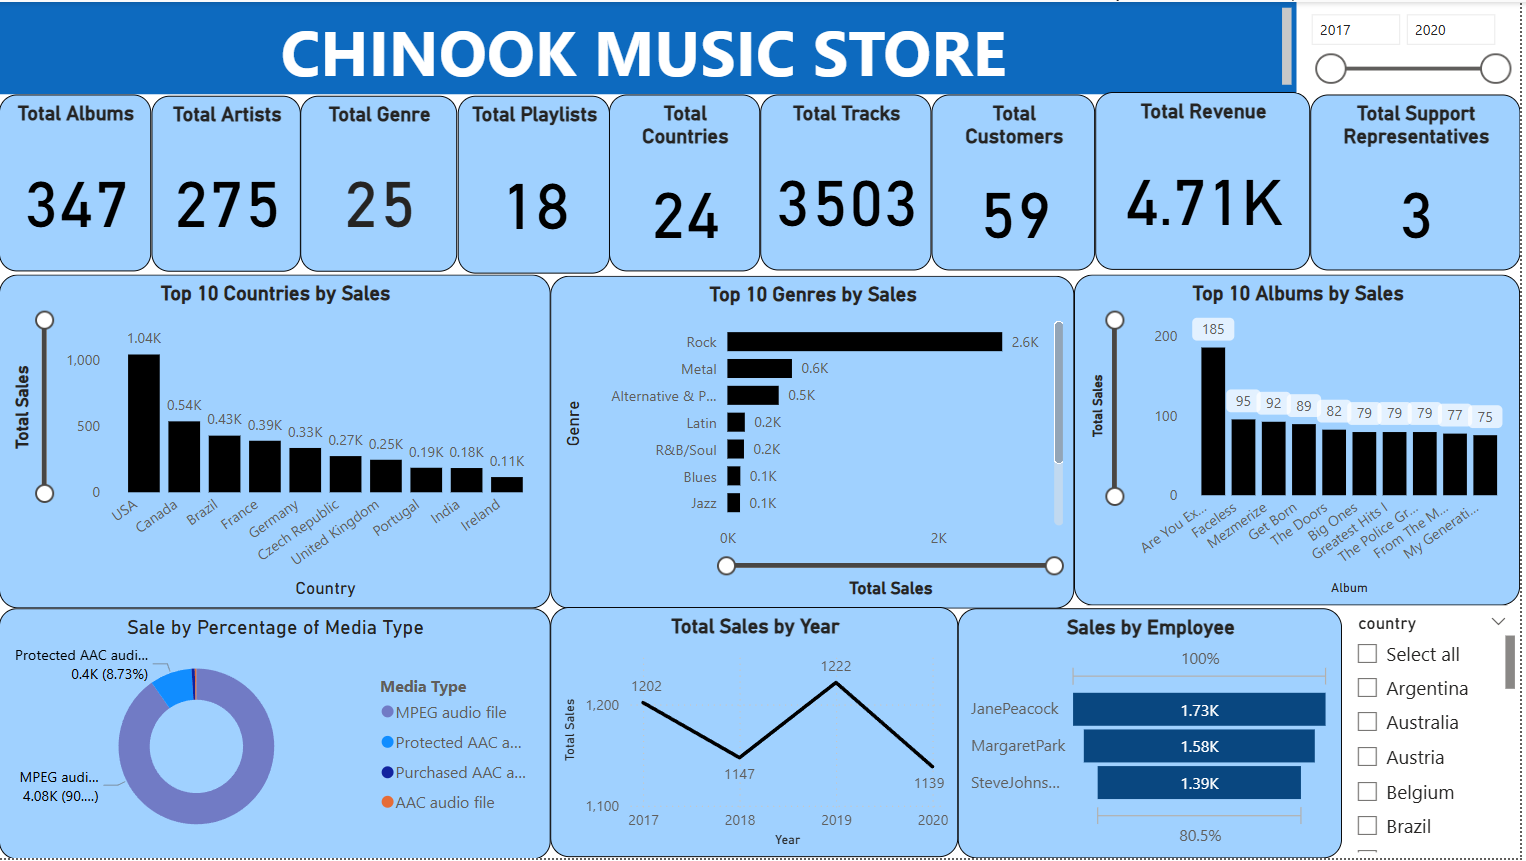

Layout of this report page (visuals, bound fields, positions):
{"tool":"powerbi","page":{"name":"Dashboard","canvas":[1280,720],"ordinal":0},"visuals":[{"type":"textbox","box":[0,0,1091.8,77.7],"z":0},{"type":"card","title":"Total Albums","fields":{"Values":["chinook track.Total Album"]},"box":[0,77.9,127.9,148.9],"z":1000},{"type":"card","title":"Total Genre","fields":{"Values":["chinook genre.Total Genres"]},"box":[253.8,78.9,131.9,147.9],"z":2000},{"type":"card","title":"Total Tracks","fields":{"Values":["chinook track.Total Tracks"]},"box":[640.5,77.9,143.9,147.9],"z":3000},{"type":"card","title":"Total Customers","fields":{"Values":["chinook customer.Number of Customers"]},"box":[784.4,77.9,137.9,147.9],"z":4000},{"type":"card","title":"Total Countries","fields":{"Values":["chinook customer.Total Countries"]},"box":[513.6,77.9,126.9,148.9],"z":5000},{"type":"card","title":"Total Artists","fields":{"Values":["chinook artist.Total Artists"]},"box":[127.9,78.9,125.9,147.9],"z":6000},{"type":"card","title":"Total Support Representatives","fields":{"Values":["chinook employee.Total Support Person"]},"box":[1103.1,77.9,176.9,147.9],"z":7000},{"type":"card","title":"Total Playlists","fields":{"Values":["chinook playlist.Total Playlists"]},"box":[385.7,78.9,127.9,149.9],"z":8000},{"type":"card","title":"Total Revenue","fields":{"Values":["chinook invoice.Total Sales"]},"box":[922.3,75.9,180.9,149.9],"z":9000},{"type":"clusteredColumnChart","title":"Top 10 Countries by Sales","fields":{"Category":["chinook customer.country"],"Y":["chinook invoice.Total Sales"]},"box":[0,228.8,463.6,280.8],"z":10000},{"type":"barChart","title":"Top 10 Genres by Sales","fields":{"Category":["chinook track.Genre Name"],"Y":["chinook invoice_line.Total Revenue"]},"box":[463.6,229.8,440.7,279.8],"z":11000},{"type":"donutChart","title":"Sale by Percentage of Media Type","fields":{"Y":["chinook media_type.Sales by Media Type"],"Category":["chinook media_type.name"]},"box":[0,509.6,463.6,210.8],"z":12000},{"type":"lineChart","fields":{"Y":["chinook invoice.Total Sales"],"Category":["chinook invoice.invoice_date.Variation.Date Hierarchy.Year","chinook invoice.invoice_date.Variation.Date Hierarchy.Quarter","chinook invoice.invoice_date.Variation.Date Hierarchy.Month"]},"box":[463.6,509.3,343.3,210.7],"z":13000},{"type":"lineStackedColumnComboChart","title":"Top 10 Albums by Sales","fields":{"Y":["chinook track.Album Sales"],"Category":["chinook track.Album Name"]},"box":[904.6,229.7,375.4,278.3],"z":14000},{"type":"slicer","fields":{"Values":["chinook customer.country"]},"box":[1129.8,508.8,150.2,211.1],"z":15000},{"type":"slicer","fields":{"Values":["chinook invoice.invoice_date.Variation.Date Hierarchy.Year"]},"box":[1091.8,0,188.2,76],"z":16000},{"type":"funnel","title":"Sales by Employee","fields":{"Category":["chinook employee.Name"],"Y":["chinook invoice.Total Sales"]},"box":[806.6,509.6,323.2,210],"z":17000}]}

Visuals, with their boxes in screenshot pixels (x1, y1, x2, y2), scaled from the page's 1280x720 canvas onto the 1526x861 screenshot:
textbox: <box>0,0,1302,93</box>
"Total Albums" card: <box>0,93,152,271</box>
"Total Genre" card: <box>303,94,460,271</box>
"Total Tracks" card: <box>764,93,935,270</box>
"Total Customers" card: <box>935,93,1100,270</box>
"Total Countries" card: <box>612,93,764,271</box>
"Total Artists" card: <box>152,94,303,271</box>
"Total Support Representatives" card: <box>1315,93,1525,270</box>
"Total Playlists" card: <box>460,94,612,274</box>
"Total Revenue" card: <box>1100,91,1315,270</box>
"Top 10 Countries by Sales" clusteredColumnChart: <box>0,274,553,609</box>
"Top 10 Genres by Sales" barChart: <box>553,275,1078,609</box>
"Sale by Percentage of Media Type" donutChart: <box>0,609,553,860</box>
lineChart - chinook invoice.Total Sales x chinook invoice.invoice_date.Variation.Date Hierarchy.Year: <box>553,609,962,860</box>
"Top 10 Albums by Sales" lineStackedColumnComboChart: <box>1078,275,1525,607</box>
slicer - chinook customer.country: <box>1347,608,1525,860</box>
slicer - chinook invoice.invoice_date.Variation.Date Hierarchy.Year: <box>1302,0,1525,91</box>
"Sales by Employee" funnel: <box>962,609,1347,860</box>
